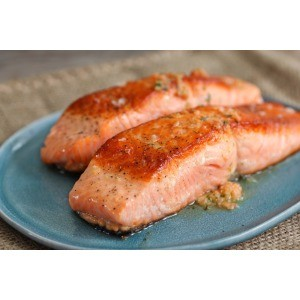salmon_brain food: (66, 95, 256, 189)
